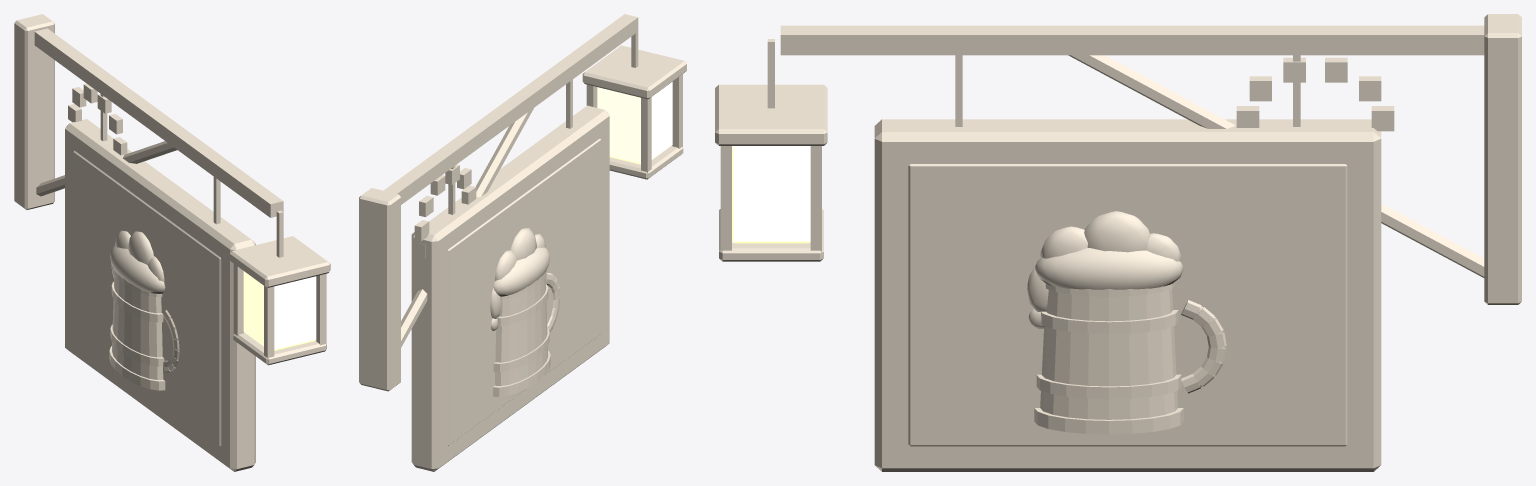
File: SM_VK_Prop_InnSign.fbx
The picture shows the model from 3 angles, left to right: view 1: azimuth 30°, elevation 25°; view 2: azimuth 150°, elevation 25°; view 3: azimuth 270°, elevation 25°; orthographic projection. The views are drawn at different scales.
Parts seen in each view (by area): view 1: SM_VK_Prop_InnSign.001; view 2: SM_VK_Prop_InnSign.001; view 3: SM_VK_Prop_InnSign.001.
Part boxes in pixels (x1,y1,x2,y2): SM_VK_Prop_InnSign.001: [14, 14, 330, 471]; SM_VK_Prop_InnSign.001: [359, 14, 686, 471]; SM_VK_Prop_InnSign.001: [715, 14, 1521, 471].
Size of the model in its own units: 0.3 by 1.3 by 2.15.
